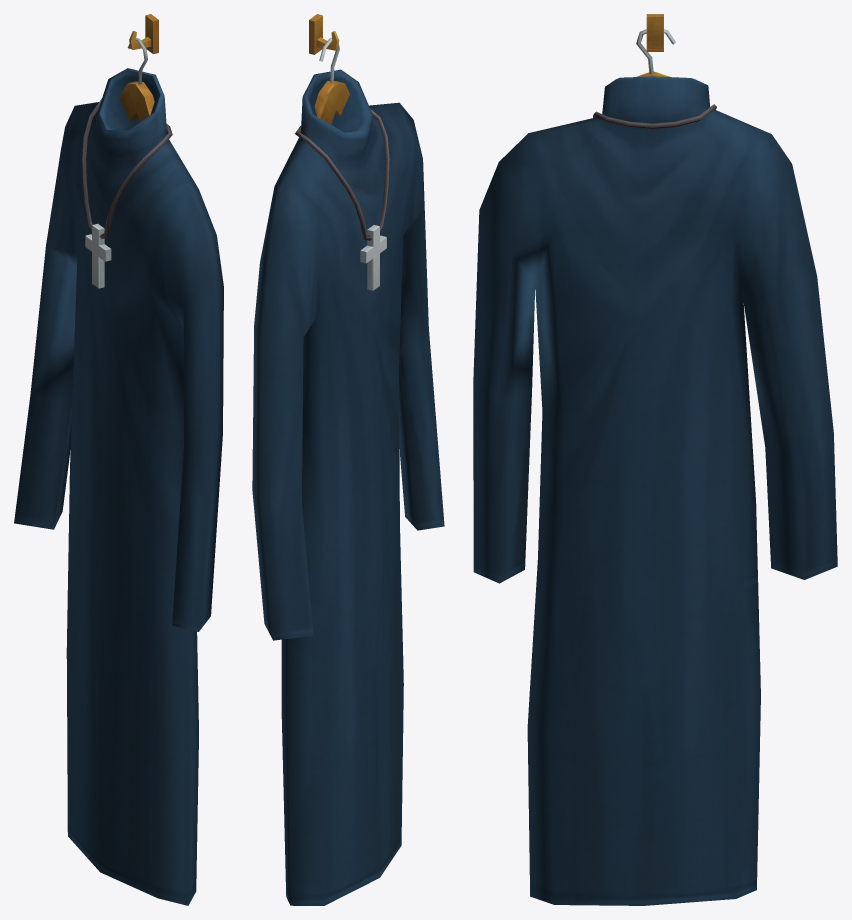
File: ShenFuXiuXiShi_01_yifu_01.FBX
The picture shows the model from 3 angles, left to right: view 1: azimuth 30°, elevation 25°; view 2: azimuth 150°, elevation 25°; view 3: azimuth 270°, elevation 25°; orthographic projection. The views are drawn at different scales.
Visible parts, largest first — view 1: ShenFuXiuXiShi_01_yifu_01; view 2: ShenFuXiuXiShi_01_yifu_01; view 3: ShenFuXiuXiShi_01_yifu_01.
Boxes of the visible parts, left/top/right/bottom form: ShenFuXiuXiShi_01_yifu_01: left=14, top=14, right=223, bottom=905; ShenFuXiuXiShi_01_yifu_01: left=252, top=14, right=444, bottom=905; ShenFuXiuXiShi_01_yifu_01: left=473, top=14, right=837, bottom=905.
Size of the model in its own units: 97.06 by 1007 by 373.
